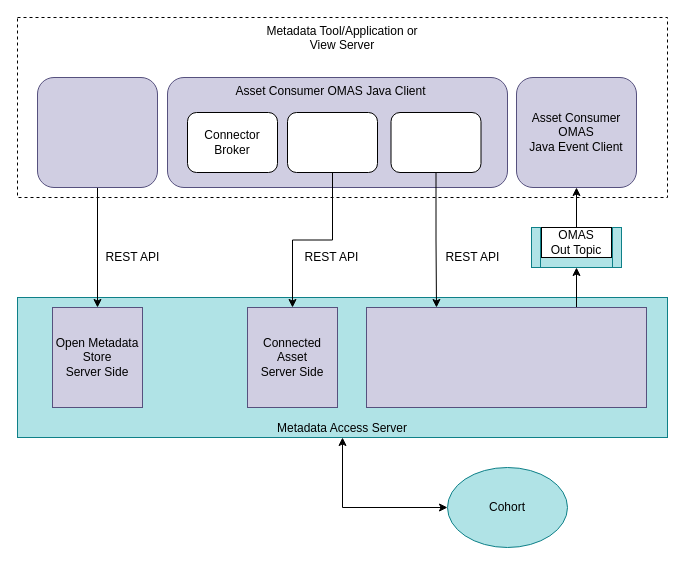
This 685x565 diagram has some shape labels left out. The shapes that lost their labels are listed below. From the top down, each one's box as (x1, y1, x2, y2) in pixels, then its label:
(36, 76, 158, 188): Asset Consumer OMAS Open Metadata Store Client
(286, 112, 378, 172): Connected Asset
(390, 112, 481, 172): Asset Consumer
(366, 306, 646, 408): Asset Consumer OMAS Server Side
